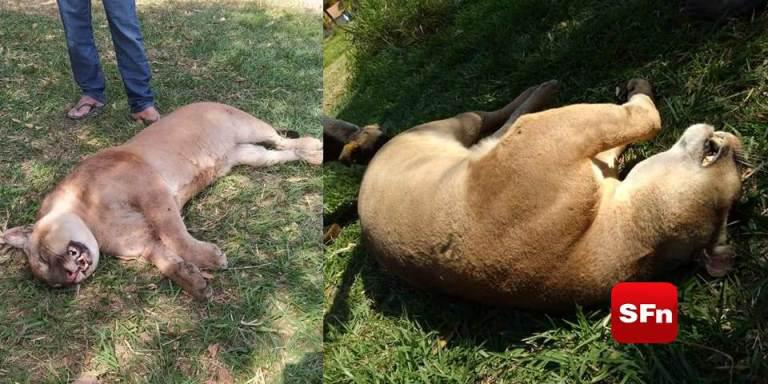OncaParda: (356, 81, 744, 278), (6, 102, 322, 305)
